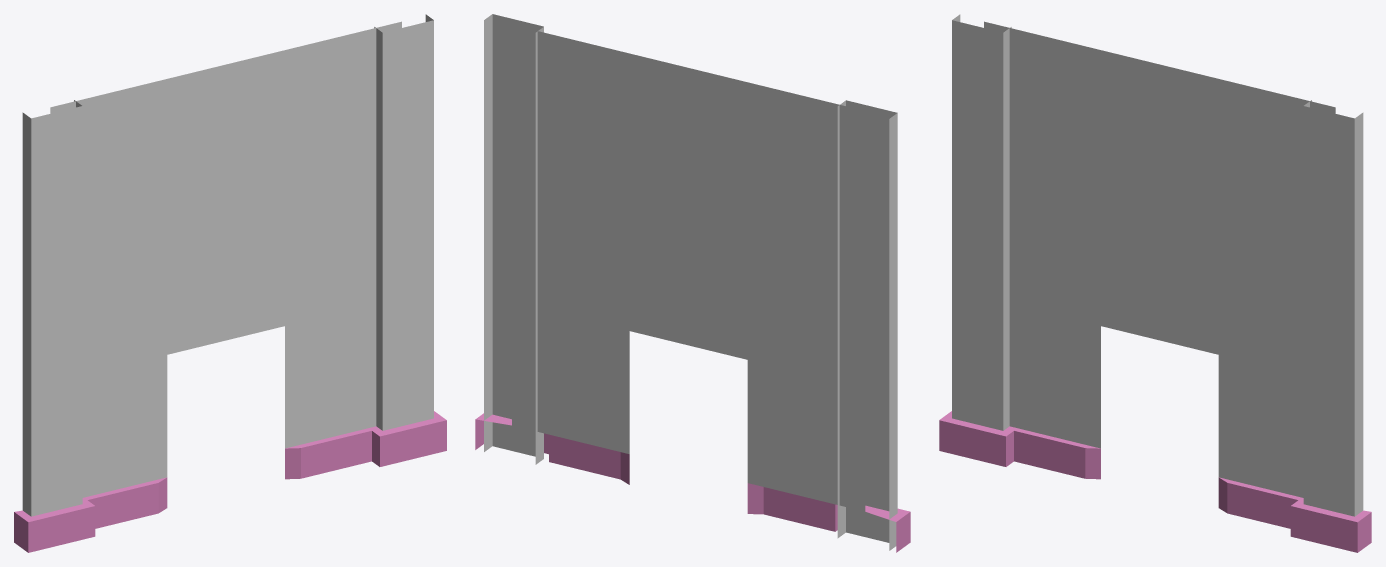
Rendered from Wall2.fbx.
3 renders of one model, left to right at view 1: azimuth 30°, elevation 25°; view 2: azimuth 150°, elevation 25°; view 3: azimuth 330°, elevation 25°, orthographic.
Parts seen in each view (by area): view 1: Cube.008; view 2: Cube.008; view 3: Cube.008.
Part boxes in pixels (bbox=[...]): Cube.008: bbox=[14, 14, 446, 552]; Cube.008: bbox=[475, 14, 910, 552]; Cube.008: bbox=[939, 14, 1371, 552].
Size of the model in its own units: 7.14 by 7.01 by 0.4202.
